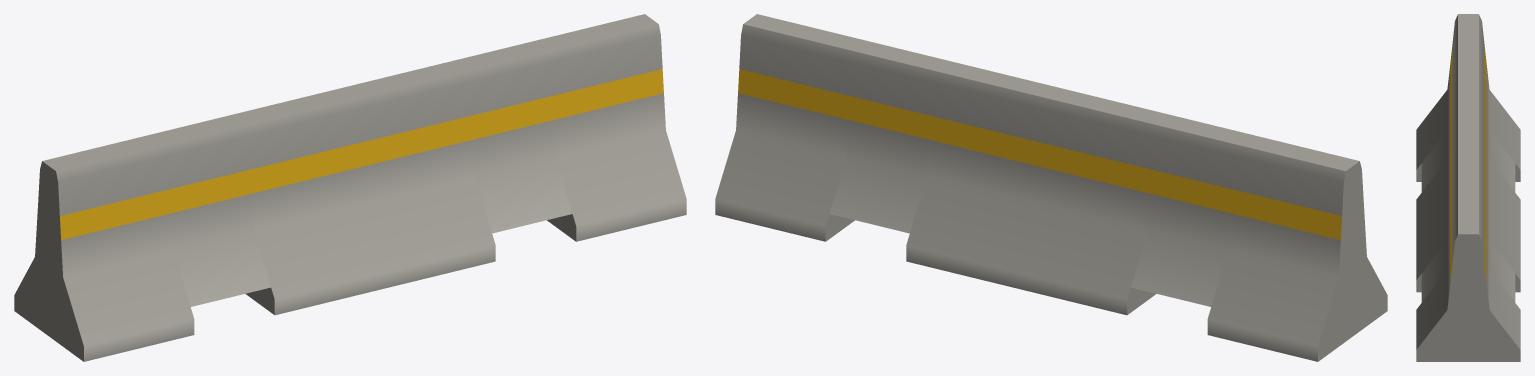
Rendered from barrier.glb.
3 views of the same model, side by side, from view 1: azimuth 30°, elevation 25°; view 2: azimuth 150°, elevation 25°; view 3: azimuth 270°, elevation 25° (orthographic). The views are drawn at different scales.
Parts seen in each view (by area): view 1: Barrier; view 2: Barrier; view 3: Barrier.
Part boxes in pixels (bbox=[...]): Barrier: bbox=[14, 14, 686, 361]; Barrier: bbox=[715, 14, 1387, 361]; Barrier: bbox=[1416, 14, 1520, 361].
Size of the model in its own units: 3 by 0.81 by 0.6.
